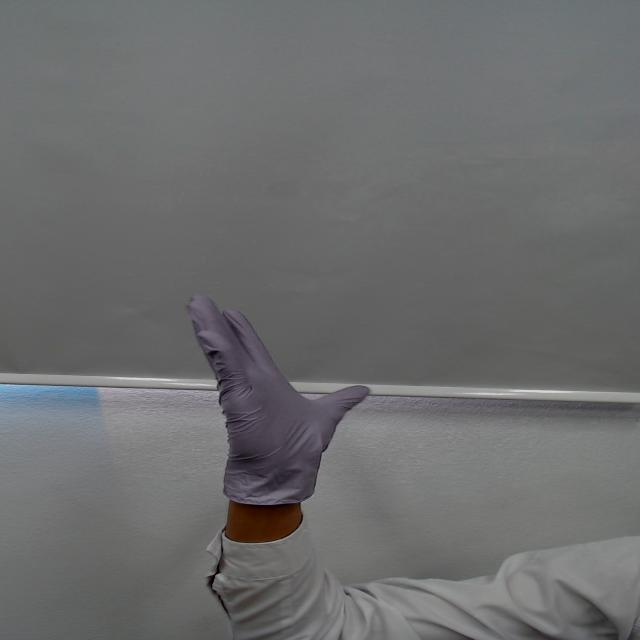glove: (154, 284, 399, 494)
